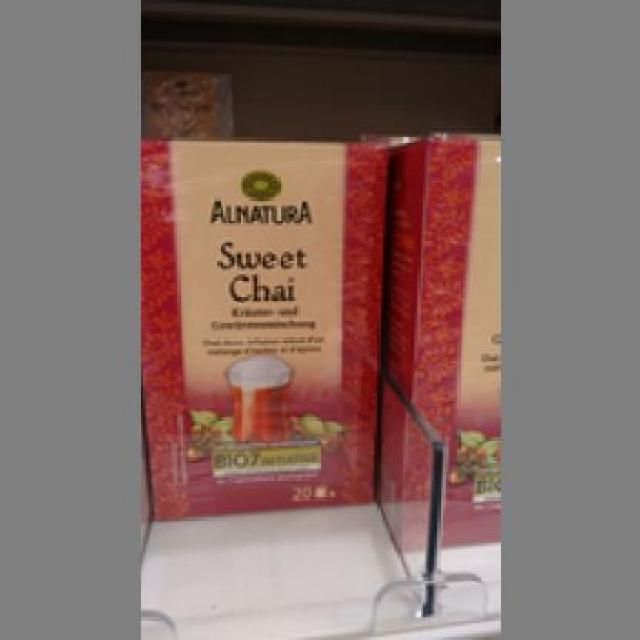Tea: (140, 134, 386, 523)
